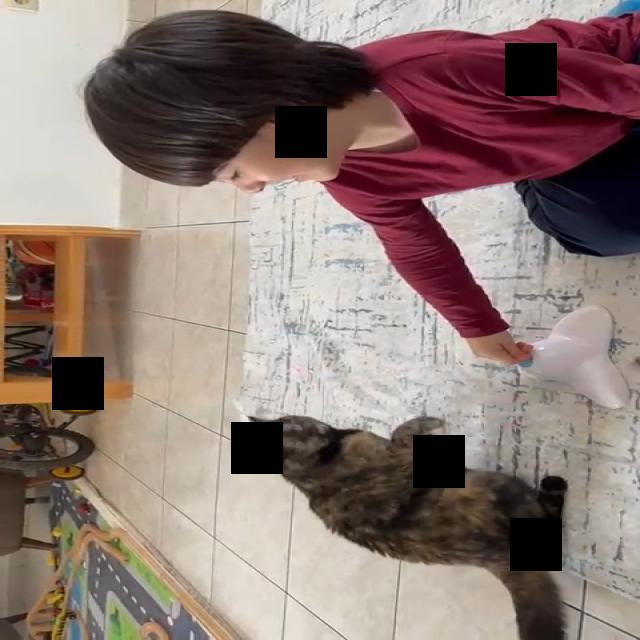authorized: (244, 412, 569, 639)
